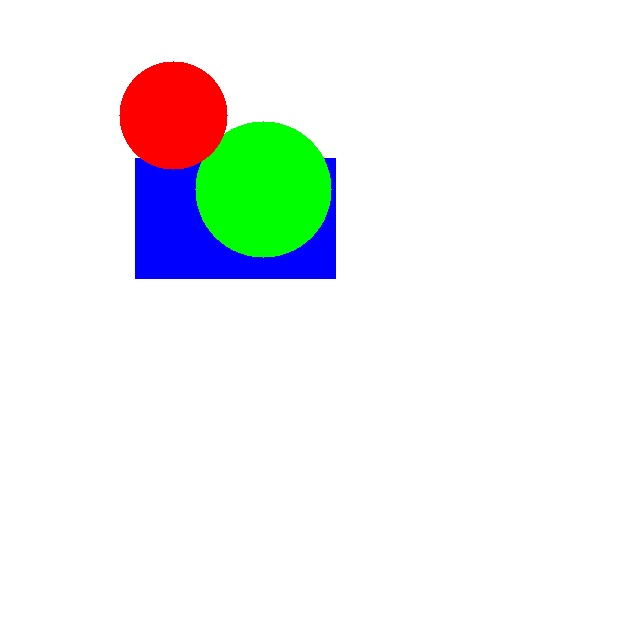cartao: (135, 158, 335, 278)
rosca_externa: (195, 121, 331, 257)
rosca_interna: (119, 61, 227, 169)
